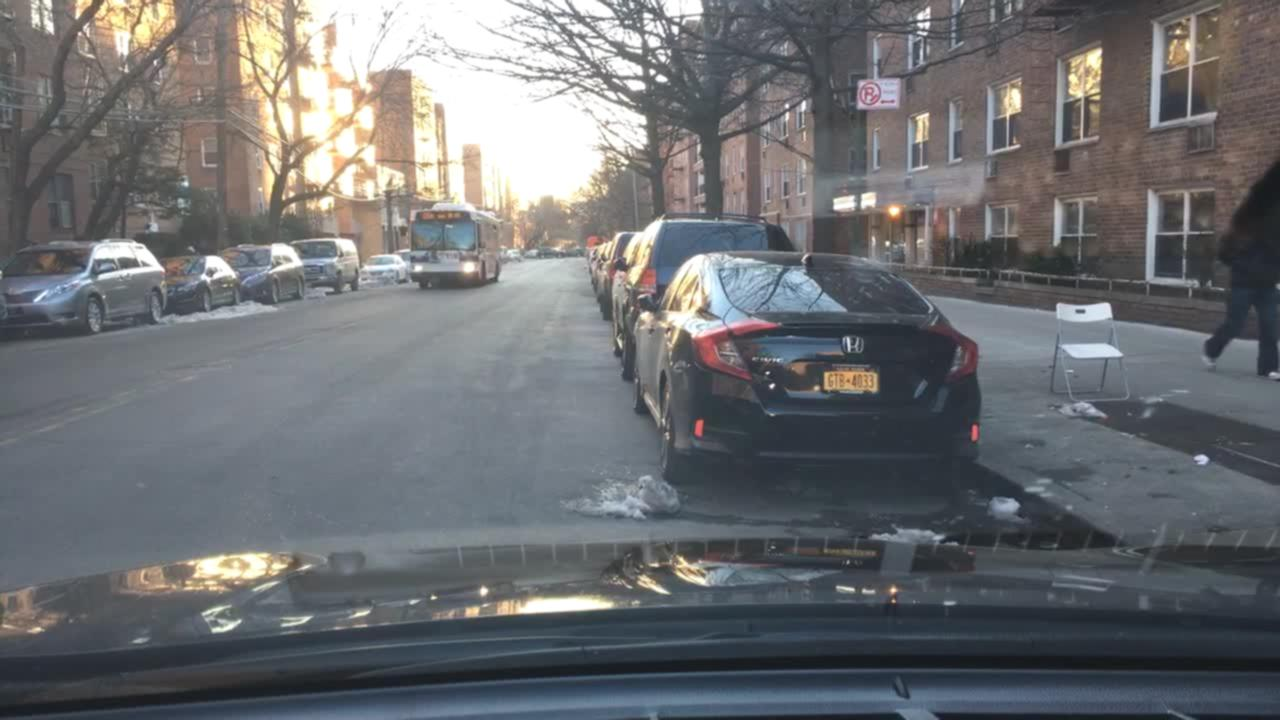Honda: (841, 327, 866, 363)
